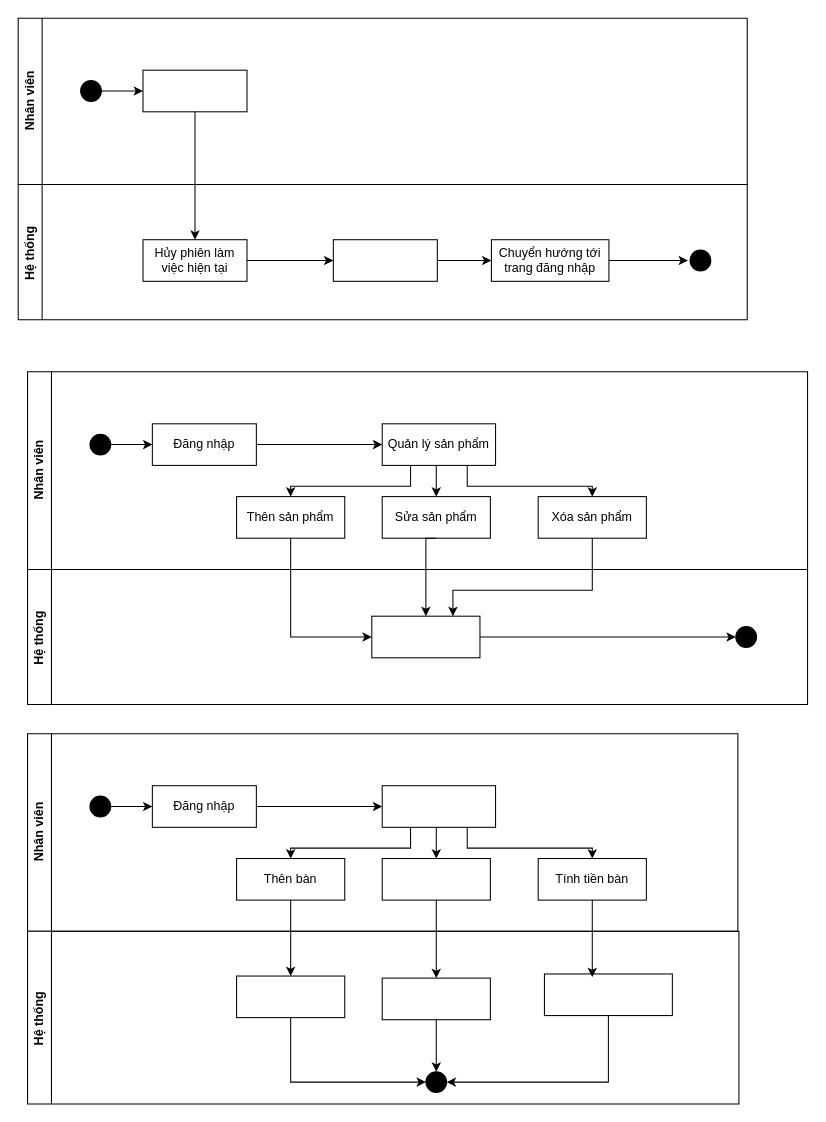
This 826x1122 diagram has some shape labels left out. The shapes that lost their labels are listed below. From the top down, each one's centre as x and y in pixels, then its label:
At [194,90]: "Yêu cầu đăng xuất".
At [384,260]: "Xóa phiên làm việc".
At [425,636]: "Hiển thị sản phẩm".
At [438,806]: "Quản lý bàn".
At [435,878]: "order sản phẩm cho bàn".
At [290,996]: "Xác nhận thêm bàn vào hệ thống".
At [435,998]: "Lưu thông tin sản phẩm đã order".
At [607,994]: "Tính tổng số tiền, tạo hóa đơn và lưu lại".
